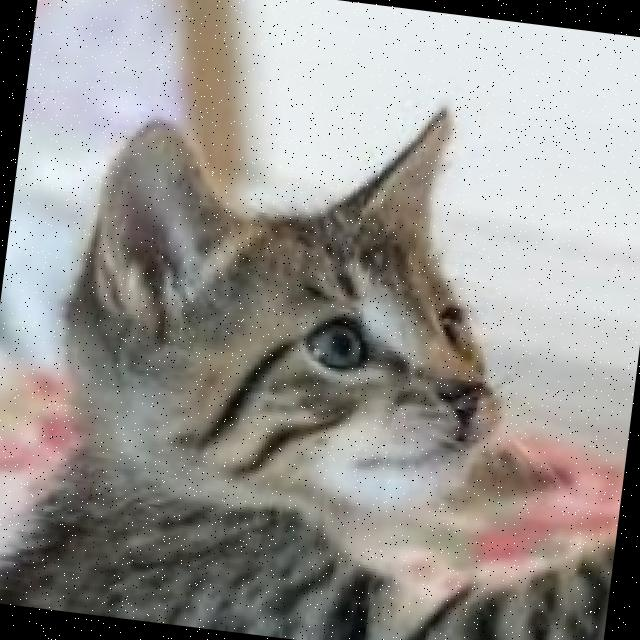Happy: (194, 228, 536, 534)
